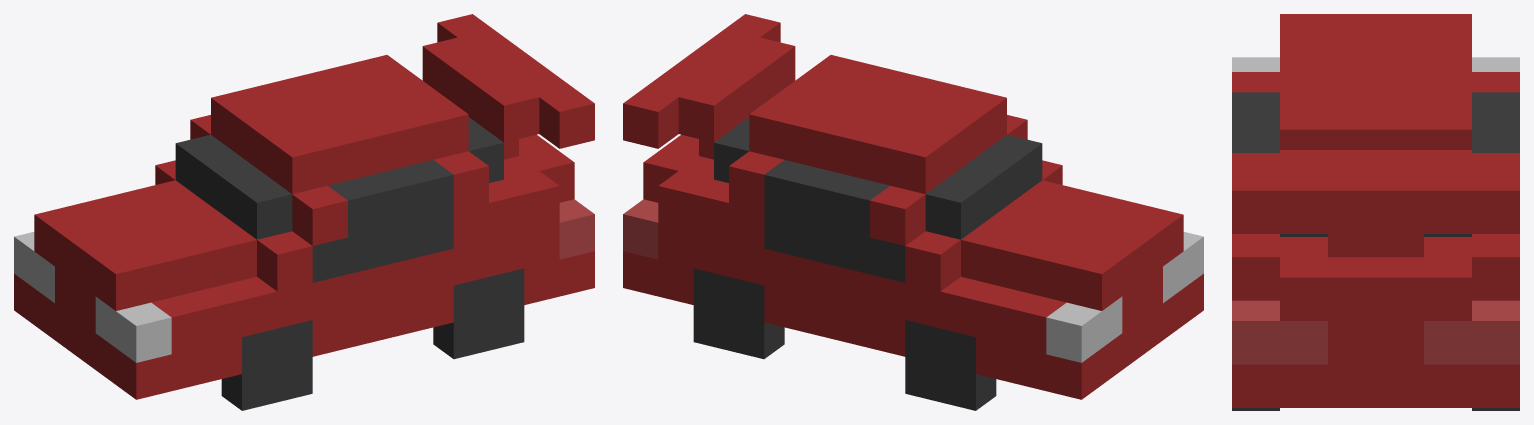
The model's file is racer-v2-red.gltf.
The picture shows the model from 3 angles, left to right: view 1: azimuth 30°, elevation 25°; view 2: azimuth 150°, elevation 25°; view 3: azimuth 270°, elevation 25°; orthographic projection. The views are drawn at different scales.
Visible parts, largest first — view 1: model, wheels; view 2: model, wheels; view 3: model, wheels.
Part boxes in pixels (x1,y1,x2,y2): model: [14, 14, 594, 399]; wheels: [221, 268, 524, 410]; model: [623, 14, 1203, 399]; wheels: [693, 268, 996, 410]; model: [1232, 14, 1519, 407]; wheels: [1232, 408, 1519, 410].
Bounding box in the file's own units: 1.3 × 0.6 × 0.6.
Materials: 2 (2 with a texture image).
